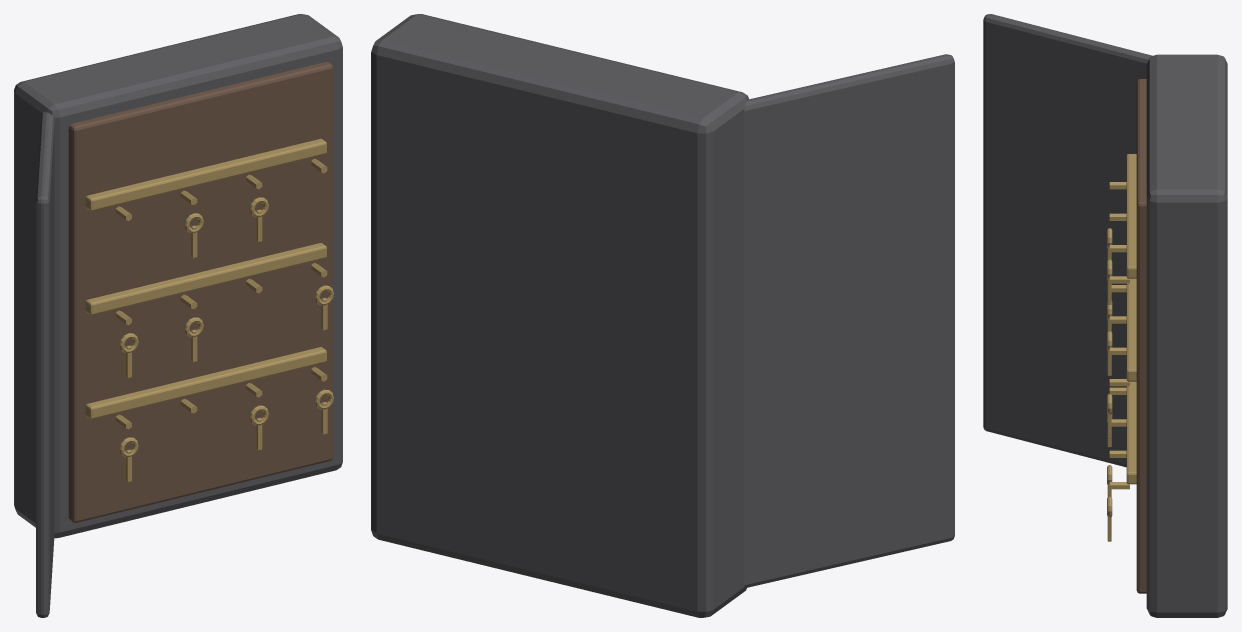
3 renders of one model, left to right at view 1: azimuth 30°, elevation 25°; view 2: azimuth 150°, elevation 25°; view 3: azimuth 270°, elevation 25°, orthographic. The views are drawn at different scales.
Parts seen in each view (by area): view 1: keyCabinet; view 2: keyCabinet; view 3: keyCabinet.
Boxes of the visible parts, x1,y1,x2,y2 form: keyCabinet: (14, 14, 342, 617); keyCabinet: (371, 14, 954, 617); keyCabinet: (983, 14, 1227, 617).
Bounding box in the file's own units: 0.658 × 0.7 × 0.3622.
